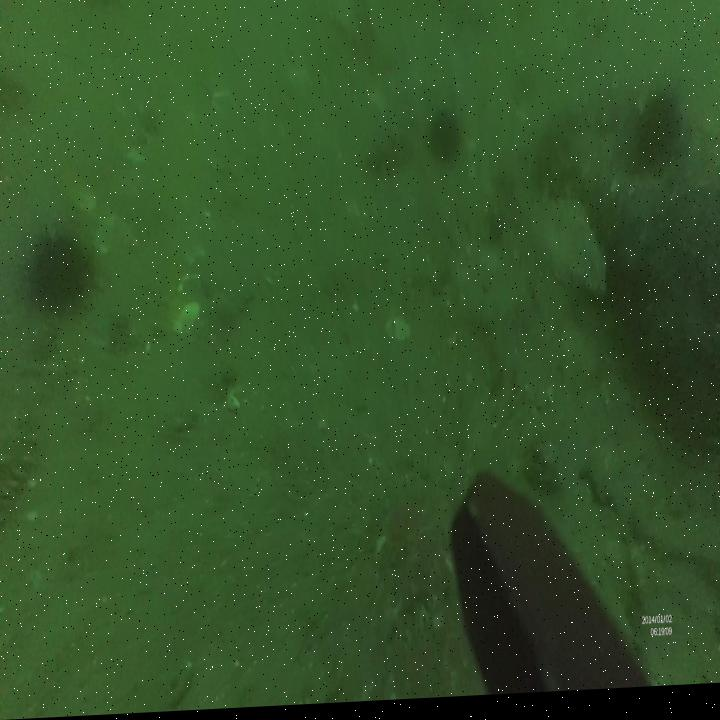echinus: (26, 226, 92, 322), (638, 86, 681, 180), (430, 106, 461, 172)
